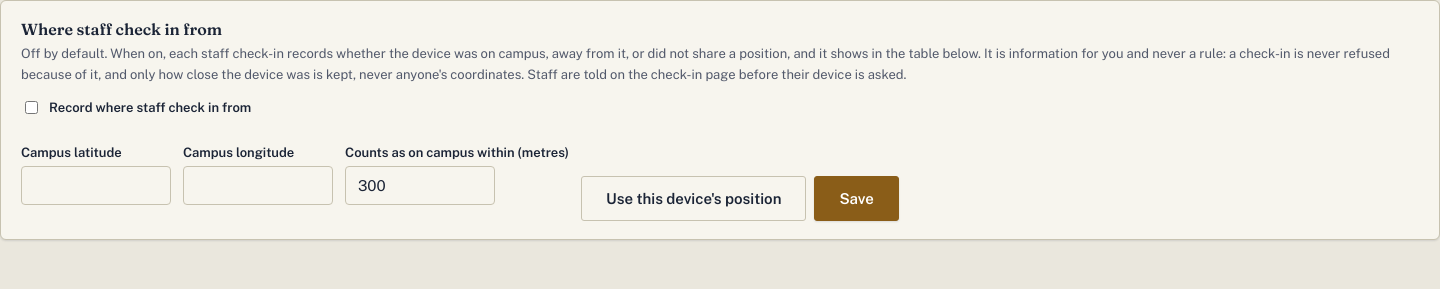
the accuracy of the position the administrator fills in › says how accurate a good fix is
This screenshot has width=1440, height=289.
Click the button "Use this device's position": (694, 198) top-left (581, 176), bottom-right (806, 221)
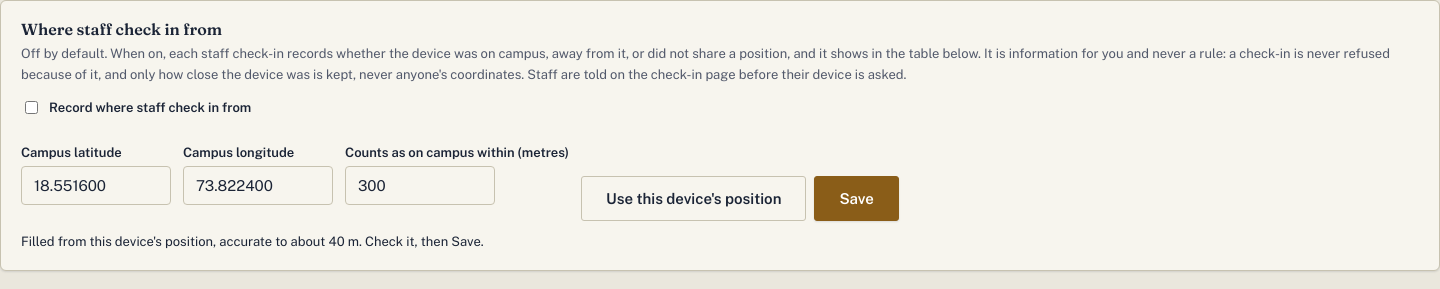
Result: the text "accurate to about 40 m. Check it, then Save" is shown at top-left (21, 234), bottom-right (484, 249)
